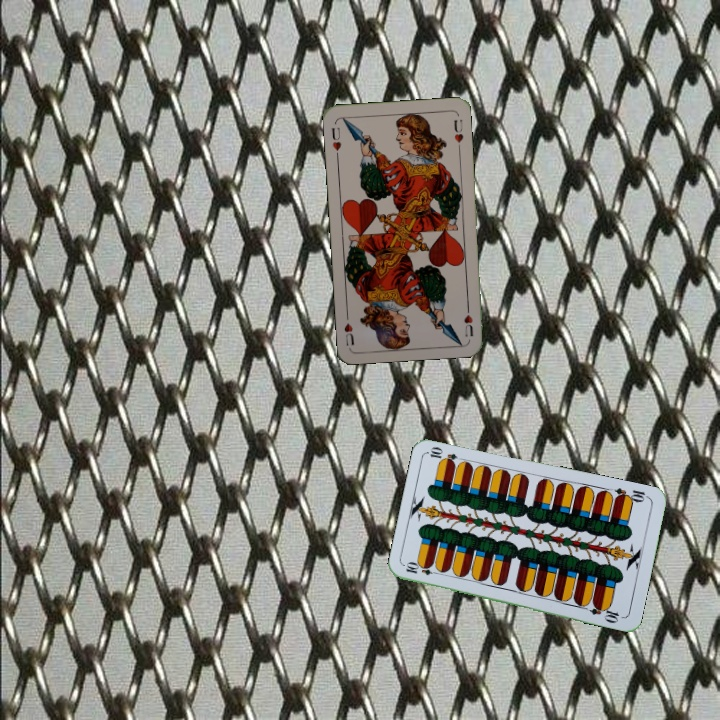E10: (611, 484, 651, 505), (402, 560, 442, 578)
HU: (327, 123, 344, 160), (460, 300, 475, 339)
